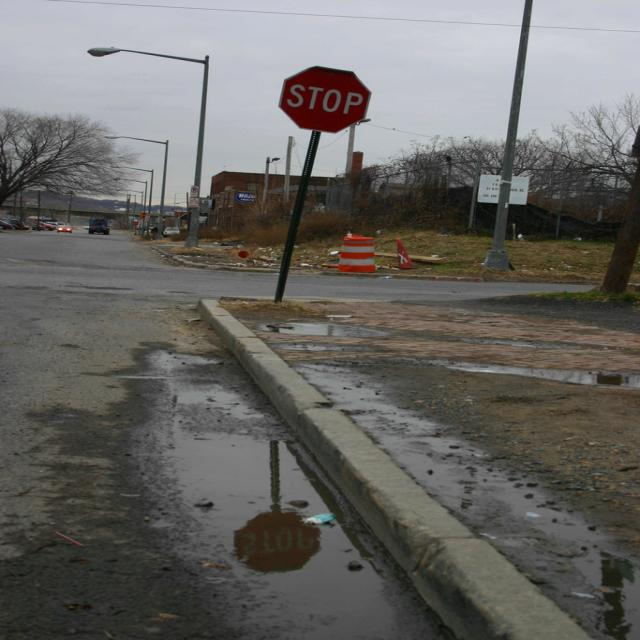Stop-sign: (276, 66, 373, 136)
